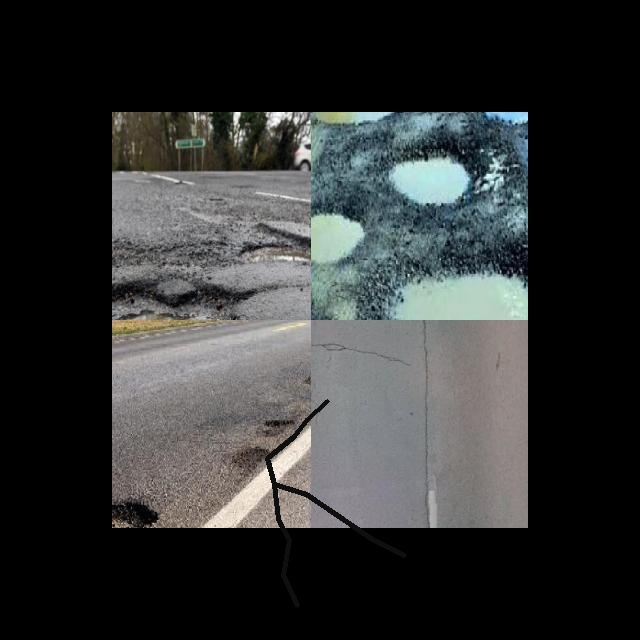road_crack: (257, 391, 337, 615)
